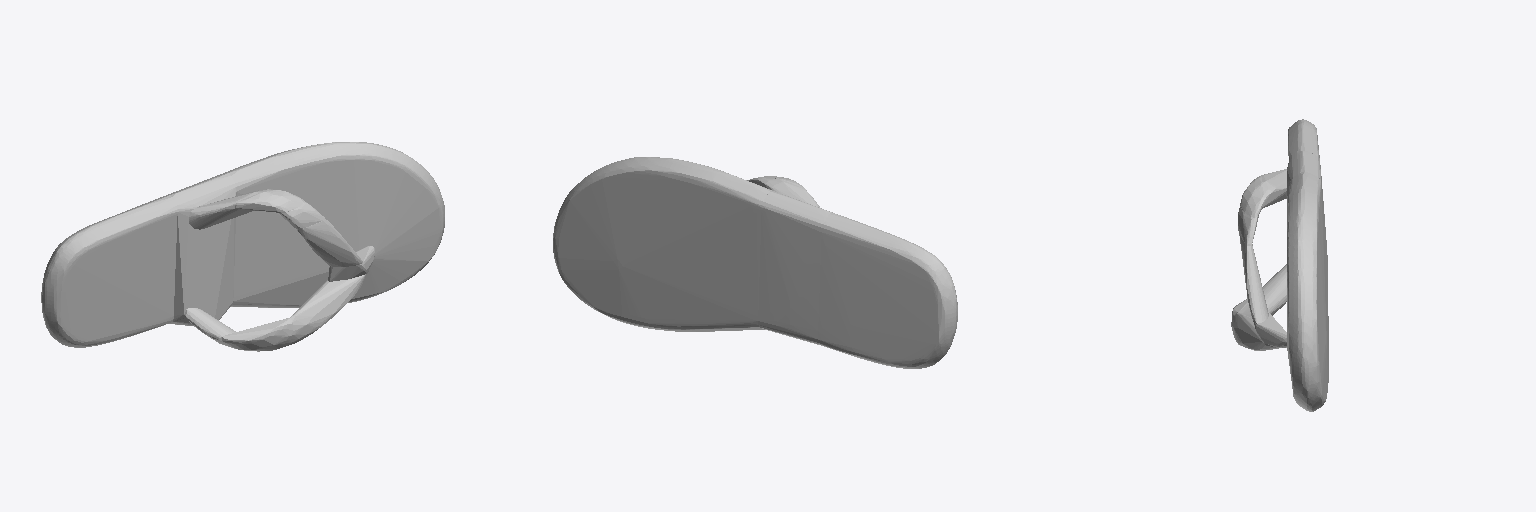
Rendered from coacd_collision.obj.
The picture shows the model from 3 angles: view 1: azimuth 30°, elevation 25°; view 2: azimuth 150°, elevation 25°; view 3: azimuth 270°, elevation 25°; orthographic projection.
Visible parts, largest first — view 1: geometry_0, geometry_1, geometry_2, geometry_6, geometry_3, geometry_4, geometry_8, geometry_9, geometry_7, geometry_5, geometry_10; view 2: geometry_0, geometry_1, geometry_2, geometry_8; view 3: geometry_0, geometry_3, geometry_1, geometry_2, geometry_6, geometry_7, geometry_8, geometry_5, geometry_9.
Part boxes in pixels (left/top/right/bottom): geometry_0: left=225, top=142, right=444, bottom=307; geometry_1: left=41, top=195, right=177, bottom=347; geometry_2: left=166, top=173, right=236, bottom=326; geometry_6: left=290, top=271, right=368, bottom=344; geometry_3: left=297, top=219, right=362, bottom=266; geometry_4: left=222, top=318, right=293, bottom=351; geometry_8: left=189, top=189, right=281, bottom=229; geometry_9: left=235, top=191, right=303, bottom=212; geometry_7: left=184, top=308, right=235, bottom=348; geometry_5: left=328, top=246, right=374, bottom=281; geometry_10: left=279, top=201, right=324, bottom=228; geometry_0: left=553, top=157, right=771, bottom=331; geometry_1: left=818, top=212, right=957, bottom=368; geometry_2: left=758, top=191, right=832, bottom=345; geometry_8: left=752, top=178, right=819, bottom=207; geometry_0: left=1287, top=172, right=1328, bottom=411; geometry_3: left=1239, top=234, right=1268, bottom=323; geometry_1: left=1288, top=119, right=1327, bottom=259; geometry_2: left=1287, top=151, right=1327, bottom=277; geometry_6: left=1232, top=312, right=1278, bottom=350; geometry_7: left=1263, top=264, right=1286, bottom=315; geometry_8: left=1262, top=169, right=1286, bottom=208; geometry_5: left=1253, top=312, right=1286, bottom=347; geometry_9: left=1240, top=175, right=1261, bottom=217.
Size of the model in its own units: 297 by 120 by 62.29.